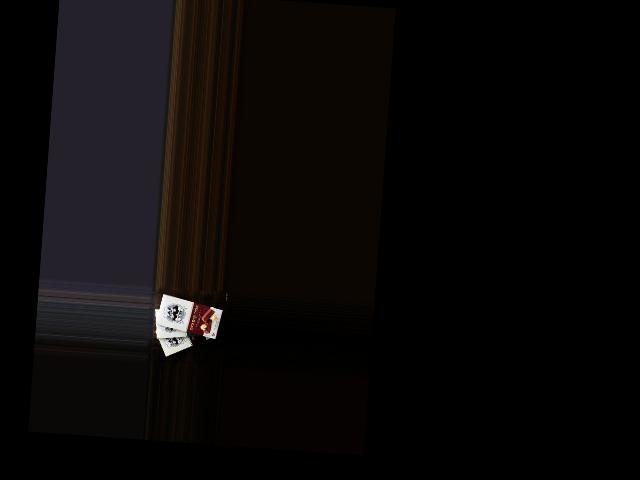chocolate: (151, 314, 221, 361)
